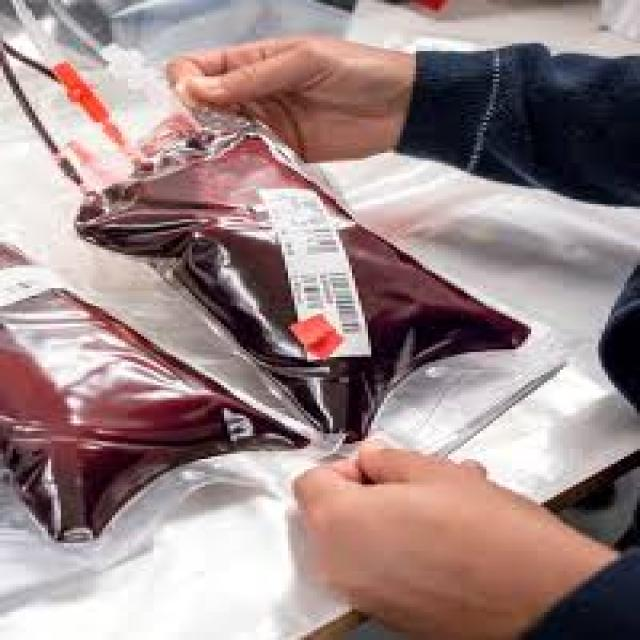B3: (44, 114, 387, 360)
